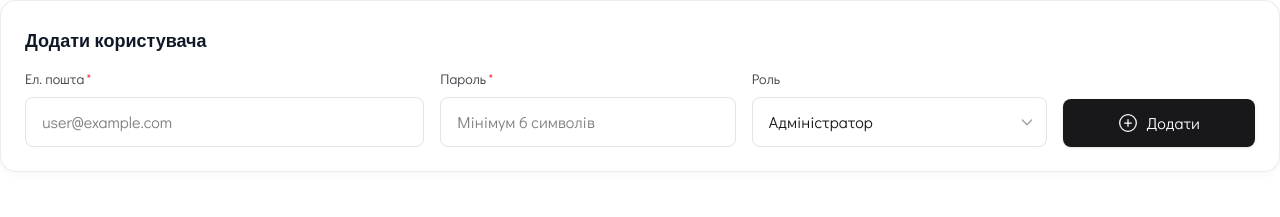
Test: CreateUserForm › rejects an invalid email format
Step 1. Type "not-an-email" into the field labelled "Ел. пошта" → (225, 122), box [25, 97, 424, 147]
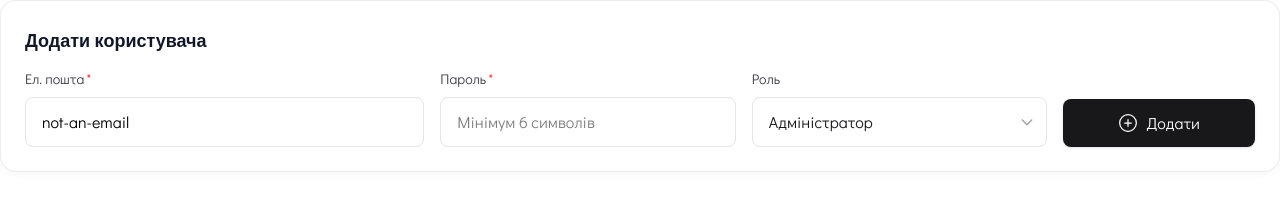
Step 2. Type "secret123" into the password field labelled "Пароль" → (588, 122), box [440, 97, 736, 147]
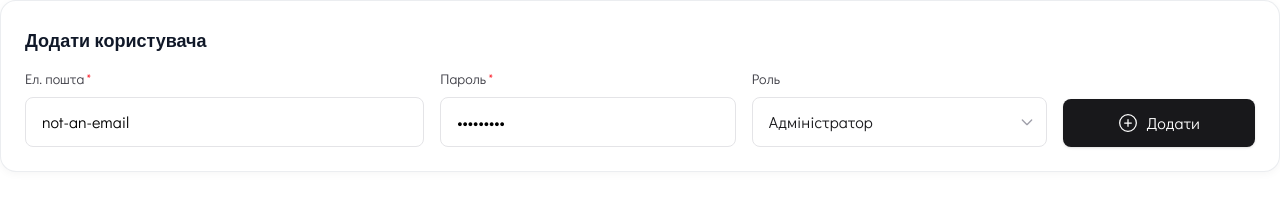
Step 3. Submit the form "Ел. пошта* Пароль* Роль Додати", box [25, 69, 1255, 147]
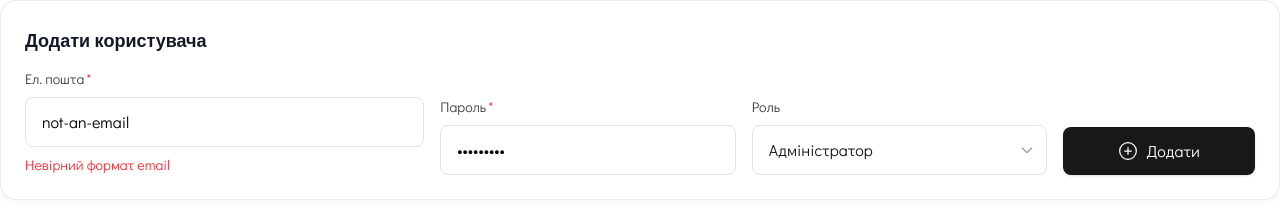
Check: the text "Невірний формат email" is shown, box [25, 155, 170, 174]
